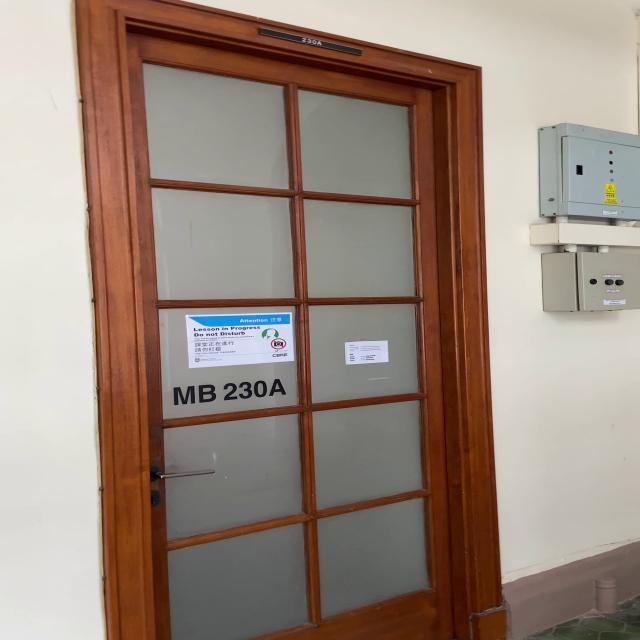room230A: (258, 25, 364, 56)
room230AWindow: (168, 376, 292, 408)
